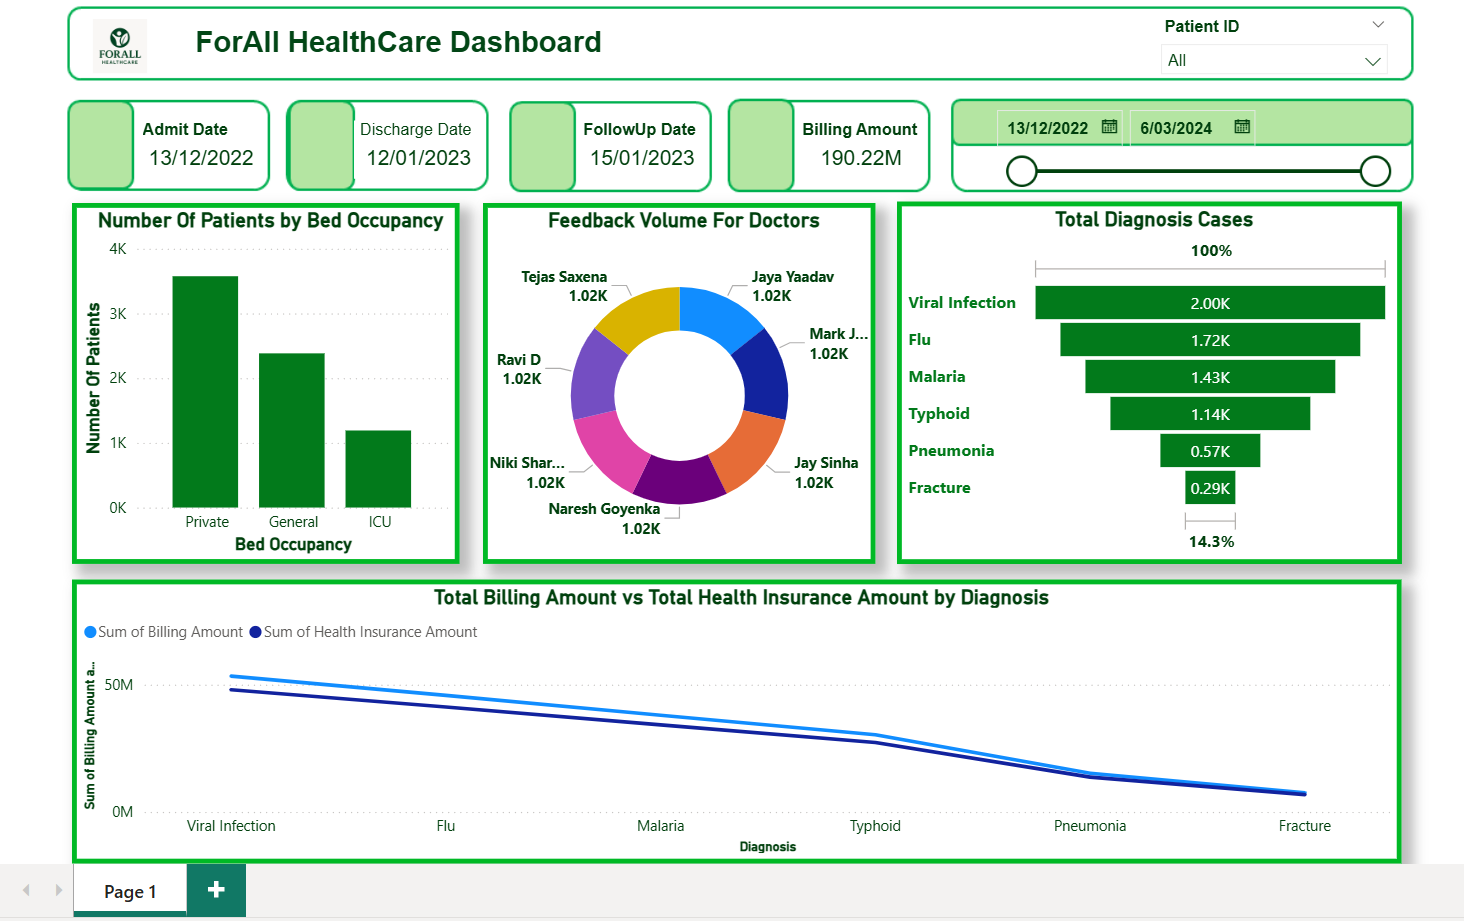

This screenshot's page, from the dashboard's own definition file:
{"tool":"powerbi","page":{"name":"Page 1","canvas":[1280,720],"ordinal":0},"visuals":[{"type":"image","box":[103.4,19.1,59.6,55.1],"z":0},{"type":"textbox","box":[162.9,23.6,400,42.7],"z":1000},{"type":"slicer","fields":{"Values":["ForAllHealthCare (2).Patient_ID"]},"box":[981.6,17.2,206.9,54],"z":2000},{"type":"card","title":"Admit Date","fields":{"Values":["Min(ForAllHealthCare (2).Admit_Date)"]},"box":[147.1,108,105.7,48.3],"z":3000},{"type":"card","title":"Discharge Date","fields":{"Values":["Min(ForAllHealthCare (2).Discharge_Date)"]},"box":[326.4,108,105.7,48.3],"z":4000},{"type":"card","title":"FollowUp Date","fields":{"Values":["Min(ForAllHealthCare (2).Followup Date)"]},"box":[510.3,108,105.7,48.3],"z":5000},{"type":"card","title":"Billing Amount","fields":{"Values":["Sum(ForAllHealthCare (2).Billing Amount)"]},"box":[690.8,108,105.7,48.3],"z":6000},{"type":"columnChart","title":"Number Of  Patients by Bed Occupancy","fields":{"Category":["ForAllHealthCare (2).Bed_Occupancy"],"Y":["CountNonNull(ForAllHealthCare (2).Patient_ID)"]},"box":[93.9,175.6,319.5,297.6],"z":7000},{"type":"slicer","fields":{"Values":["ForAllHealthCare (2).Admit_Date"]},"box":[842.5,88.5,346,78.2],"z":8000},{"type":"donutChart","title":"Feedback Volume For Doctors","fields":{"Category":["ForAllHealthCare.Doctor"],"Y":["CountNonNull(ForAllHealthCare.Doctor)"]},"box":[432.9,175.6,323.2,297.6],"z":9000},{"type":"funnel","title":"Total Diagnosis Cases","fields":{"Y":["CountNonNull(ForAllHealthCare.Diagnosis)"],"Category":["ForAllHealthCare.Diagnosis"]},"box":[773.2,174.4,415.9,298.8],"z":10000},{"type":"lineChart","title":"Total Billing Amount vs Total Health Insurance Amount by Diagnosis","fields":{"Y":["Sum(ForAllHealthCare.Billing Amount)","Sum(ForAllHealthCare.Health Insurance Amount)"],"Category":["ForAllHealthCare.Diagnosis"]},"box":[93.9,485.4,1095.1,234.1],"z":11000}]}

Visuals, with their boxes in screenshot pixels (x1, y1, x2, y2):
image: detection(80, 12, 152, 79)
textbox: detection(152, 17, 637, 69)
slicer - ForAllHealthCare (2).Patient_ID: detection(1144, 9, 1395, 75)
"Admit Date" card: detection(133, 119, 261, 178)
"Discharge Date" card: detection(350, 119, 478, 178)
"FollowUp Date" card: detection(573, 119, 701, 178)
"Billing Amount" card: detection(792, 119, 920, 178)
"Number Of  Patients by Bed Occupancy" columnChart: detection(68, 201, 455, 562)
slicer - ForAllHealthCare (2).Admit_Date: detection(976, 96, 1395, 191)
"Feedback Volume For Doctors" donutChart: detection(479, 201, 871, 562)
"Total Diagnosis Cases" funnel: detection(892, 200, 1396, 562)
"Total Billing Amount vs Total Health Insurance Amount by Diagnosis" lineChart: detection(68, 577, 1396, 861)
